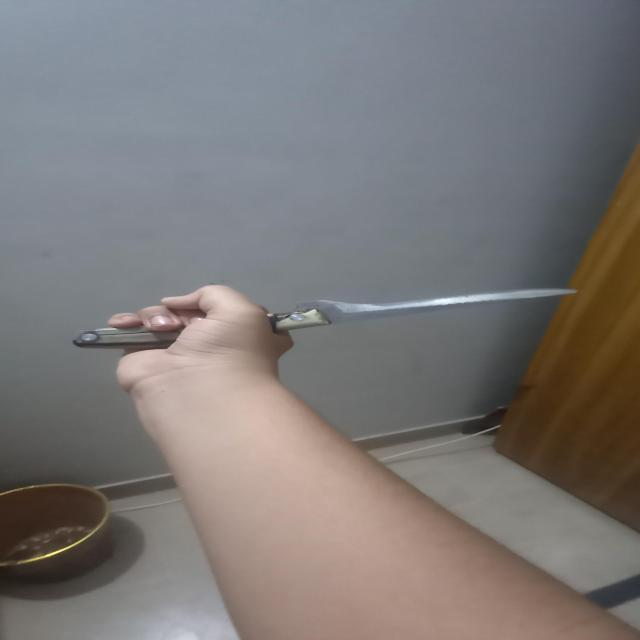Knife: (71, 287, 579, 350)
Person: (103, 286, 640, 639)
